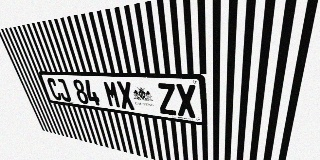4: (82, 80, 101, 106)
8: (72, 79, 90, 104)
C: (46, 78, 63, 101)
J: (55, 78, 72, 102)
M: (102, 80, 122, 108)
X: (175, 84, 197, 118), (116, 81, 136, 110)
Z: (156, 83, 177, 116)
